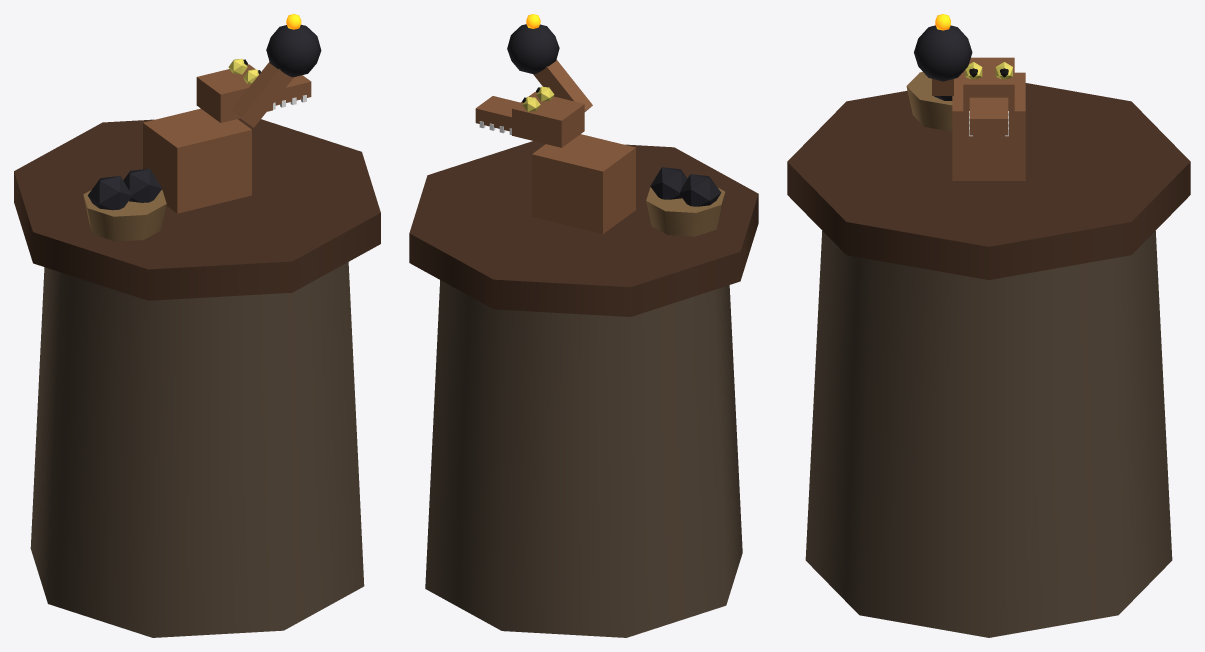
The model's file is goblin-level1.glb.
3 renders of one model, left to right at view 1: azimuth 30°, elevation 25°; view 2: azimuth 150°, elevation 25°; view 3: azimuth 270°, elevation 25°, orthographic. The views are drawn at different scales.
Visible parts, largest first — view 1: object 1, object 2, turret, object 4, object 5, object 6; view 2: object 1, object 2, turret, object 4, object 5, object 6; view 3: object 1, object 2, turret, object 4.
Part boxes in pixels (left/top/right/bottom): object 1: left=30, top=262, right=364, bottom=637; object 2: left=14, top=118, right=380, bottom=300; turret: left=143, top=14, right=321, bottom=213; object 4: left=83, top=190, right=166, bottom=241; object 5: left=88, top=176, right=131, bottom=210; object 6: left=123, top=168, right=162, bottom=202; object 1: left=425, top=280, right=742, bottom=637; object 2: left=409, top=141, right=758, bottom=316; turret: left=475, top=14, right=635, bottom=233; object 4: left=646, top=187, right=725, bottom=236; object 5: left=680, top=174, right=721, bottom=206; object 6: left=650, top=167, right=687, bottom=199; object 1: left=805, top=231, right=1172, bottom=637; object 2: left=787, top=83, right=1190, bottom=279; turret: left=914, top=14, right=1025, bottom=180; object 4: left=906, top=72, right=952, bottom=131.
Bounding box in the file's own units: 2.2 × 3.52 × 2.2.
